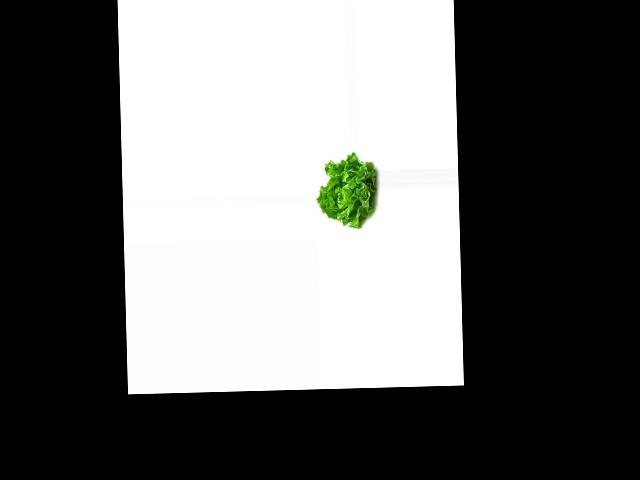lettuce: (315, 152, 379, 228)
